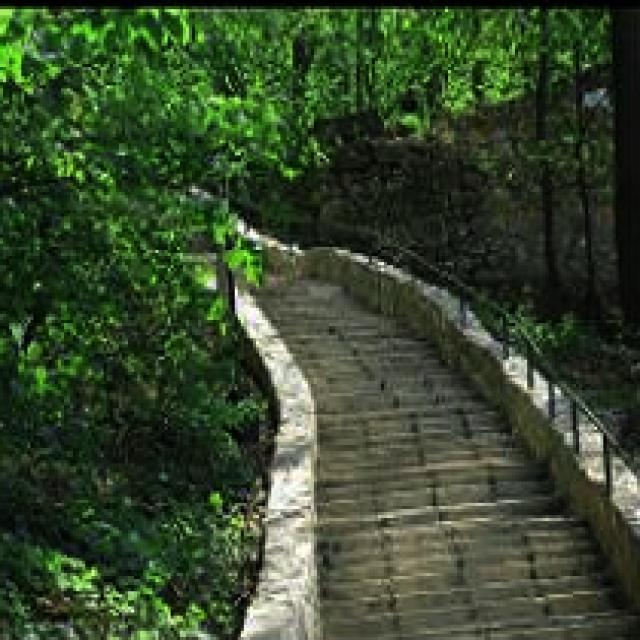upstair: (227, 260, 586, 547)
